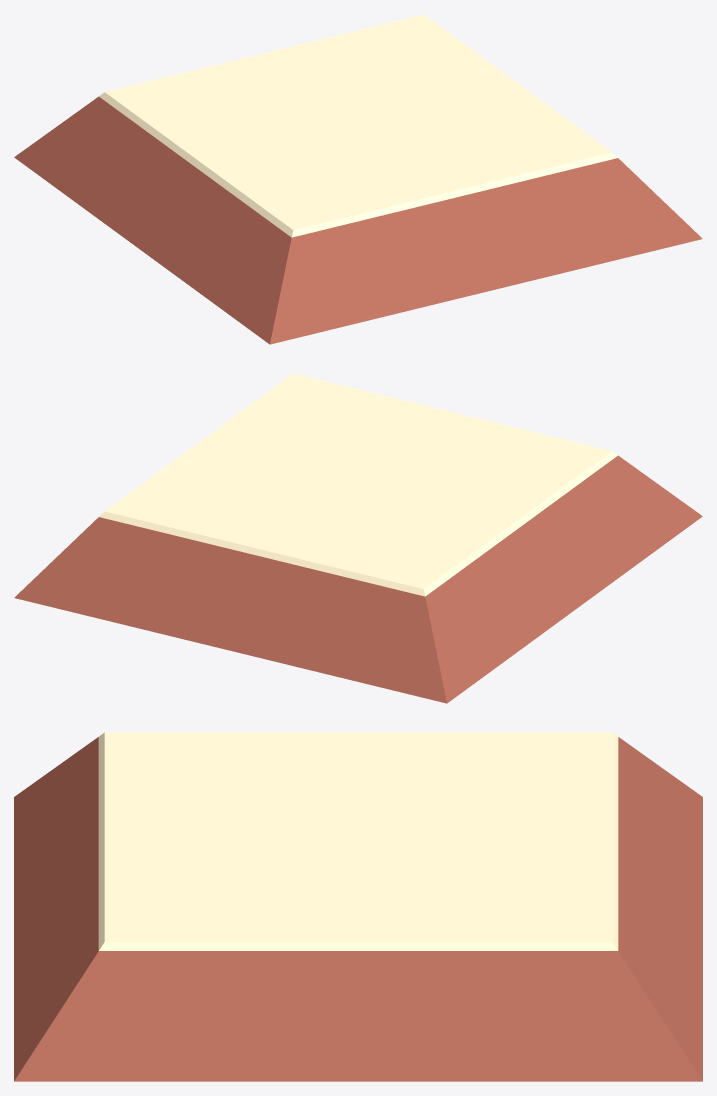
File: giza-menkaure-b60.glb
3 renders of one model, top to bottom at view 1: azimuth 30°, elevation 25°; view 2: azimuth 150°, elevation 25°; view 3: azimuth 270°, elevation 25°, orthographic. The views are drawn at different scales.
Size of the model in its own units: 102 by 17.12 by 105.
